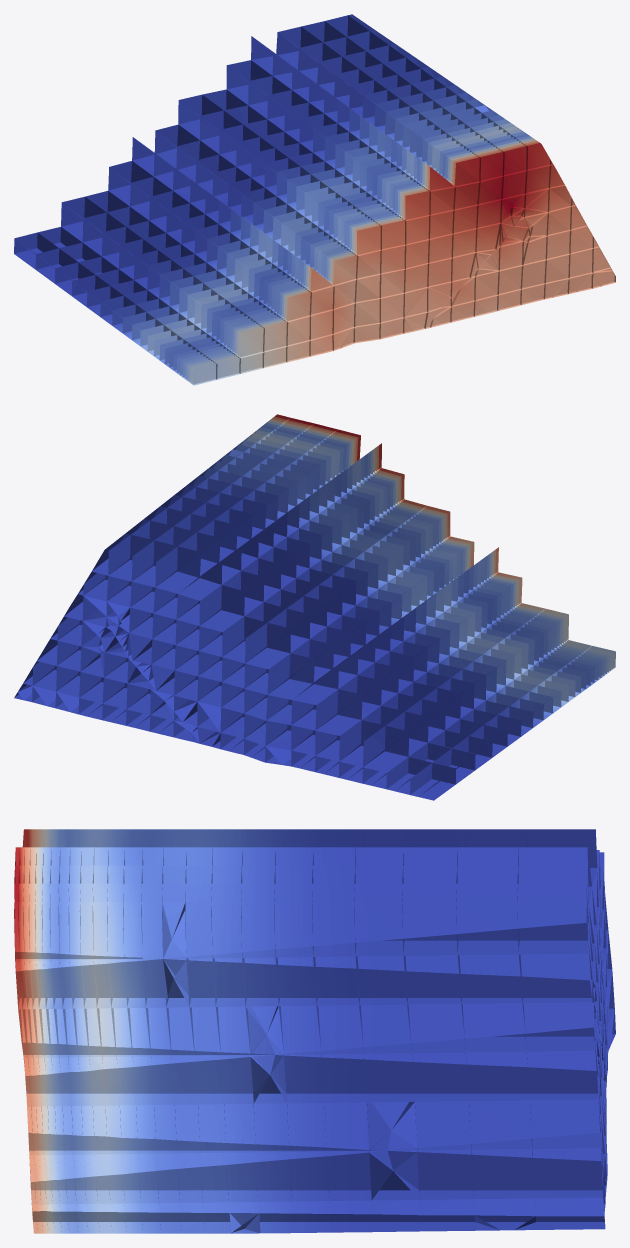
The model's file is test-faces-polydata.gltf.
The picture shows the model from 3 angles, top to bottom: view 1: azimuth 30°, elevation 25°; view 2: azimuth 150°, elevation 25°; view 3: azimuth 270°, elevation 25°; orthographic projection. The views are drawn at different scales.
Parts seen in each view (by area): view 1: Renderer Node; view 2: Renderer Node; view 3: Renderer Node.
Part boxes in pixels (x1,y1,x2,y2): Renderer Node: (14,14,615,385); Renderer Node: (14,414,615,800); Renderer Node: (14,829,615,1233).
Bounding box in the file's own units: 541 × 200 × 421.
1 material, 1 textured.
